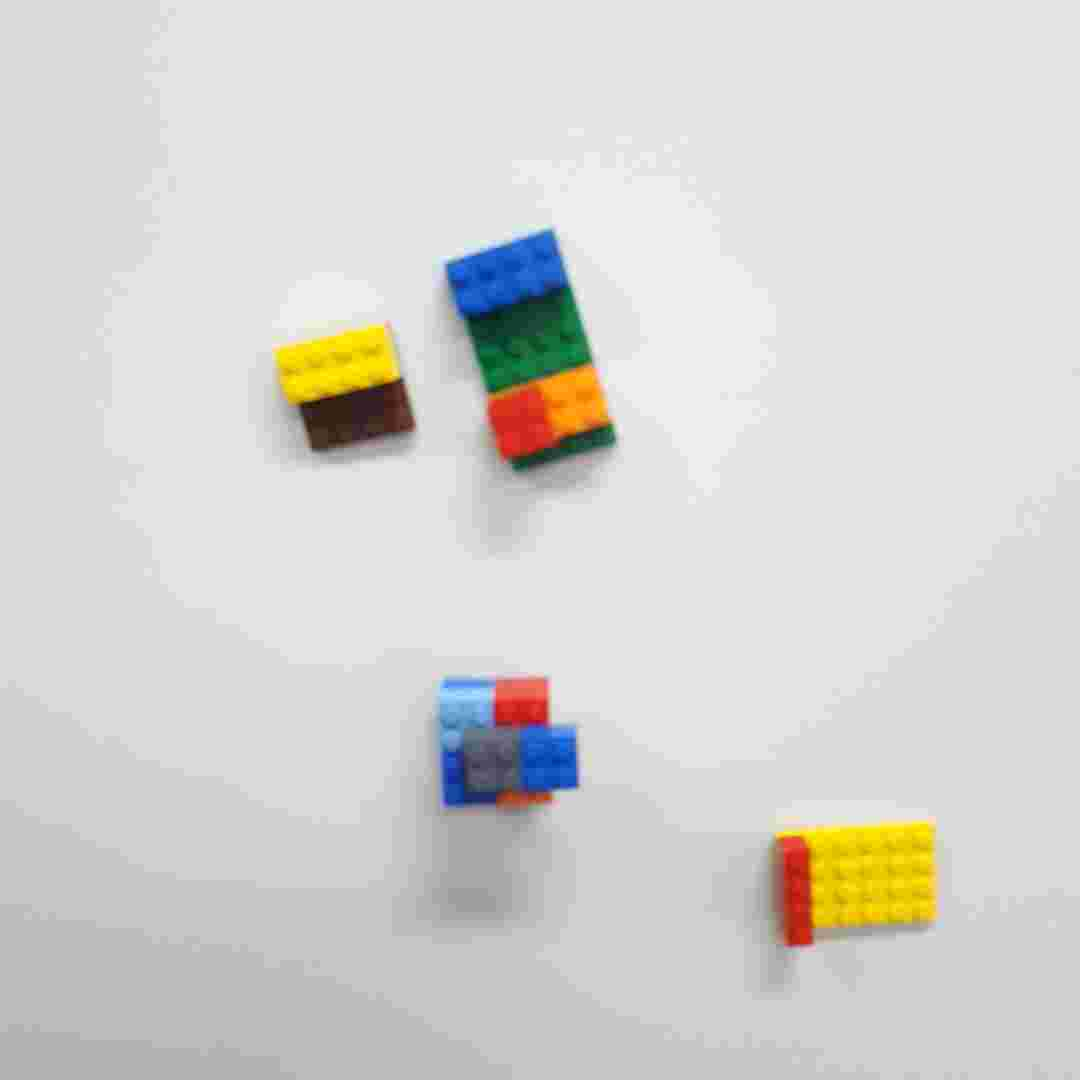LEGO: (439, 220, 624, 476), (768, 813, 946, 956), (435, 669, 589, 815), (272, 317, 428, 451)
